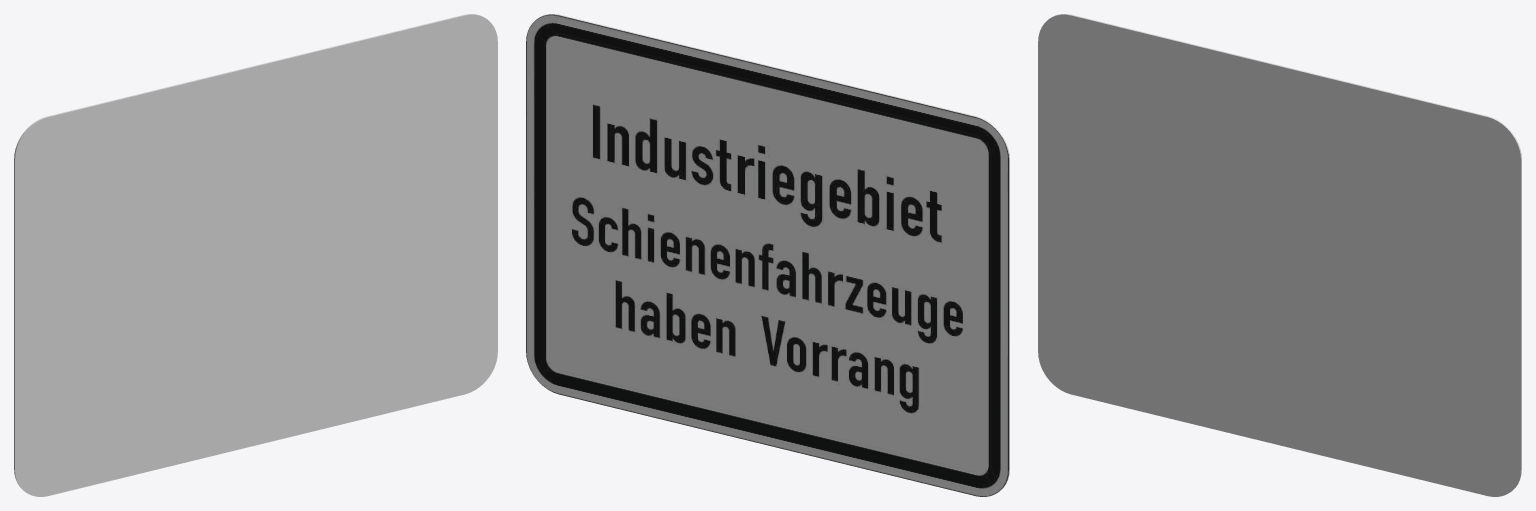
3 views of the same model, side by side, from view 1: azimuth 30°, elevation 25°; view 2: azimuth 150°, elevation 25°; view 3: azimuth 330°, elevation 25° (orthographic).
Parts seen in each view (by area): view 1: Plane; view 2: Plane; view 3: Plane.
Boxes of the visible parts, left/top/right/bottom form: Plane: left=14, top=14, right=497, bottom=496; Plane: left=526, top=14, right=1009, bottom=496; Plane: left=1038, top=14, right=1521, bottom=496.
Size of the model in its own units: 0.6 by 0.45 by 0.002.
Materials: 2 (1 with a texture image).
